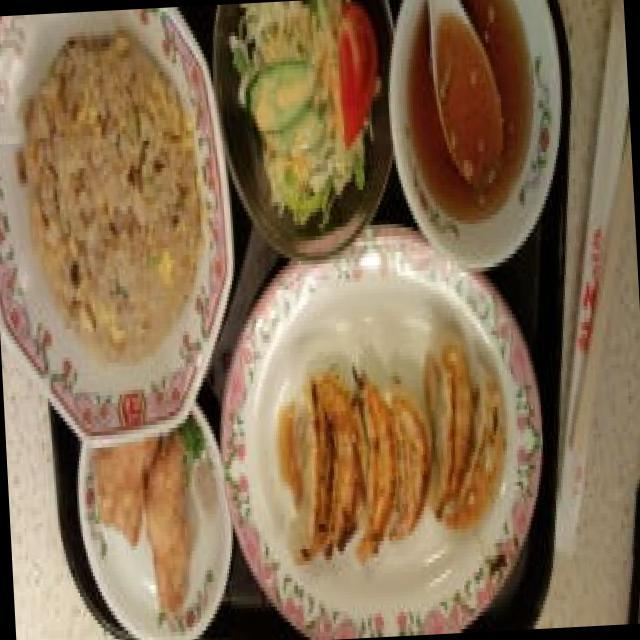Green Salad: (250, 0, 389, 226)
